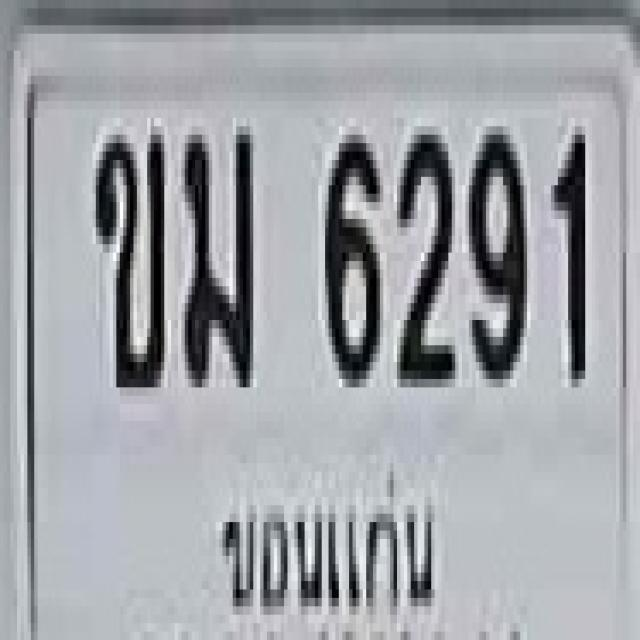-: (181, 118, 250, 379), (92, 126, 161, 379)
1: (551, 126, 582, 379)
2: (395, 126, 450, 379)
6: (322, 126, 376, 379)
9: (466, 118, 524, 370)
KKN: (212, 446, 442, 640)
